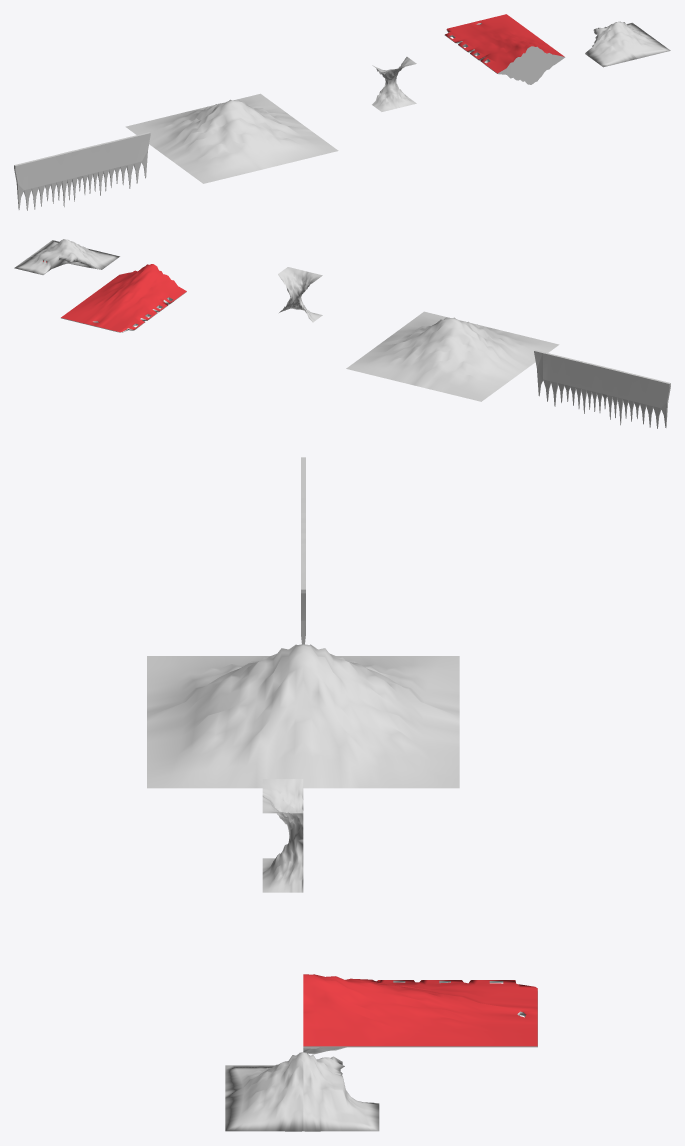
Rendered from montañas 2.fbx.
3 renders of one model, top to bottom at view 1: azimuth 30°, elevation 25°; view 2: azimuth 150°, elevation 25°; view 3: azimuth 270°, elevation 25°, orthographic. The views are drawn at different scales.
Visible parts, largest first — view 1: montaña ENTERA, ESTALACTITAS, montaña SUBTERRANEA, MINERA, columnas; view 2: montaña ENTERA, ESTALACTITAS, montaña SUBTERRANEA, MINERA, columnas; view 3: montaña ENTERA, montaña SUBTERRANEA, MINERA, columnas.
Boxes of the visible parts, x1,y1,x2,y2 form: montaña ENTERA: (125, 93, 338, 183); ESTALACTITAS: (14, 132, 150, 210); montaña SUBTERRANEA: (444, 14, 565, 84); MINERA: (585, 21, 670, 67); columnas: (372, 57, 416, 111); montaña ENTERA: (346, 311, 559, 401); ESTALACTITAS: (534, 350, 670, 428); montaña SUBTERRANEA: (61, 264, 186, 332); MINERA: (14, 239, 119, 274); columnas: (278, 267, 322, 322); montaña ENTERA: (147, 644, 459, 788); montaña SUBTERRANEA: (303, 974, 537, 1054); MINERA: (225, 1052, 379, 1131); columnas: (262, 779, 303, 892).
Bounding box in the file's own units: 25104 × 2530 × 6672.
